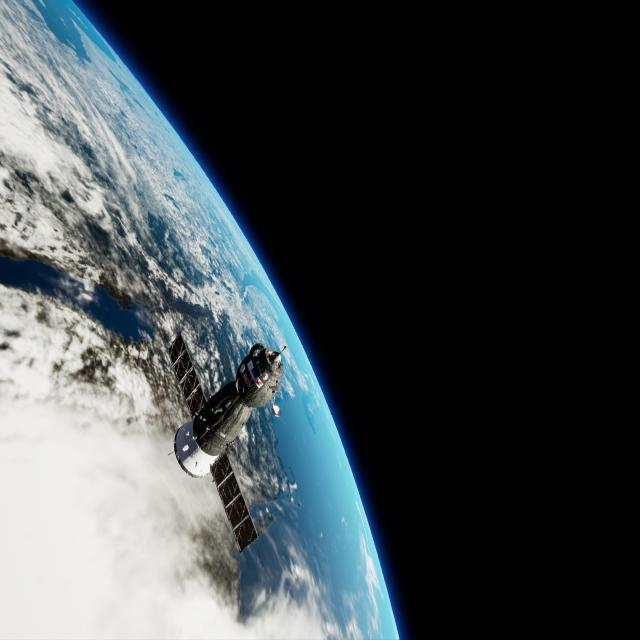Satellites revolving around earth: (1, 1, 401, 638)
